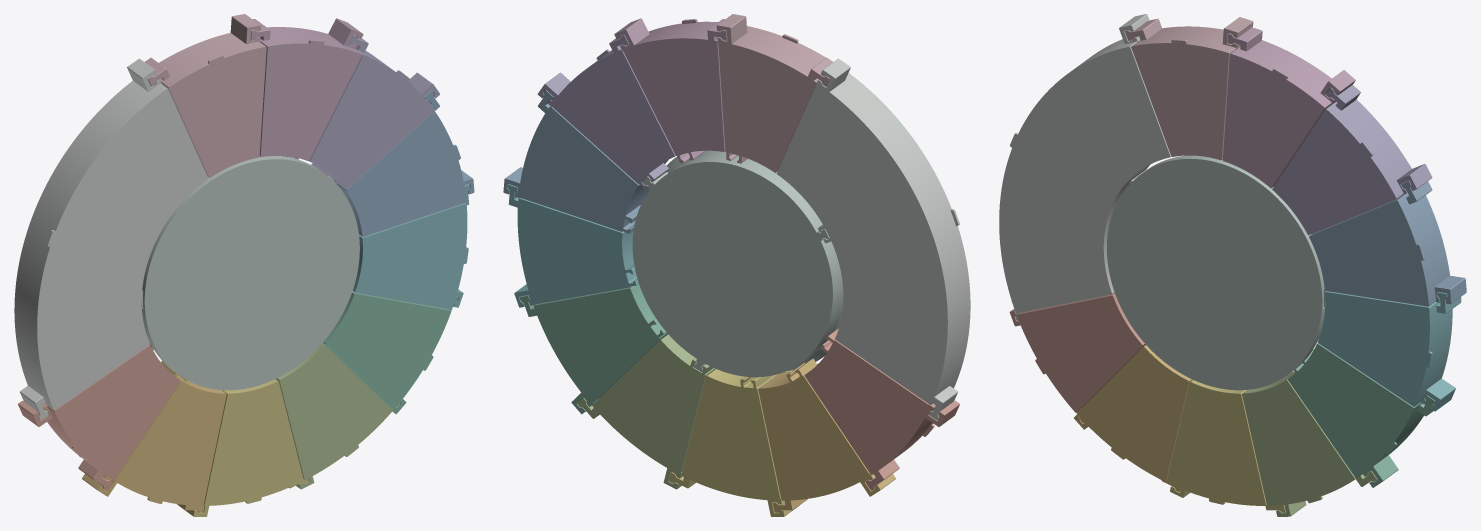
Rendered from VIEW_ONLY_storage.glb.
The picture shows the model from 3 angles, left to right: view 1: azimuth 30°, elevation 25°; view 2: azimuth 150°, elevation 25°; view 3: azimuth 330°, elevation 25°; orthographic projection.
Parts seen in each view (by area): view 1: central_lid, lid_90, bin_90, lid_27_10, lid_27_06, lid_27_09, lid_27_04, lid_27_05, lid_27_03, lid_27_07, lid_27_01, lid_27_02 (+7 smaller); view 2: bin_90, central_case, bin_27_10, bin_27_09, bin_27_01, bin_27_02, bin_27_03, bin_27_07, bin_27_05, bin_27_06, bin_27_08, bin_27_04 (+1 smaller); view 3: central_lid, lid_90, lid_27_06, lid_27_09, lid_27_10, lid_27_07, lid_27_02, lid_27_01, lid_27_08, lid_27_03, lid_27_04, lid_27_05 (+9 smaller).
Part boxes in pixels (x1,y1,x2,y2): central_lid: (143,158,359,390); lid_90: (35,87,208,410); bin_90: (14,58,165,420); lid_27_10: (167,45,266,177); lid_27_06: (354,203,468,309); lid_27_09: (259,39,362,161); lid_27_04: (278,344,392,479); lid_27_05: (324,292,451,409); lid_27_03: (203,380,303,505); lid_27_07: (345,111,466,236); lid_27_01: (53,345,180,480); lid_27_02: (114,380,226,505); bin_90: (776,58,968,420); central_case: (632,150,843,377); bin_27_10: (716,14,832,172); bin_27_09: (614,18,727,163); bin_27_01: (804,328,959,490); bin_27_02: (758,358,895,512); bin_27_03: (669,369,799,516); bin_27_07: (503,90,649,233); bin_27_05: (519,284,667,414); bin_27_06: (508,184,638,307); bin_27_08: (537,34,675,189); bin_27_04: (577,334,715,489); central_lid: (1107,157,1323,390); lid_90: (999,45,1171,313); lid_27_06: (1317,291,1432,406); lid_27_09: (1223,52,1325,188); lid_27_10: (1131,39,1230,160); lid_27_07: (1309,199,1430,306); lid_27_02: (1077,345,1190,481); lid_27_01: (1016,294,1143,412); lid_27_08: (1272,108,1397,235); lid_27_03: (1166,381,1266,505); lid_27_04: (1242,379,1355,505); lid_27_05: (1288,343,1414,478).
Size of the model in its own units: 362 by 373 by 32.
